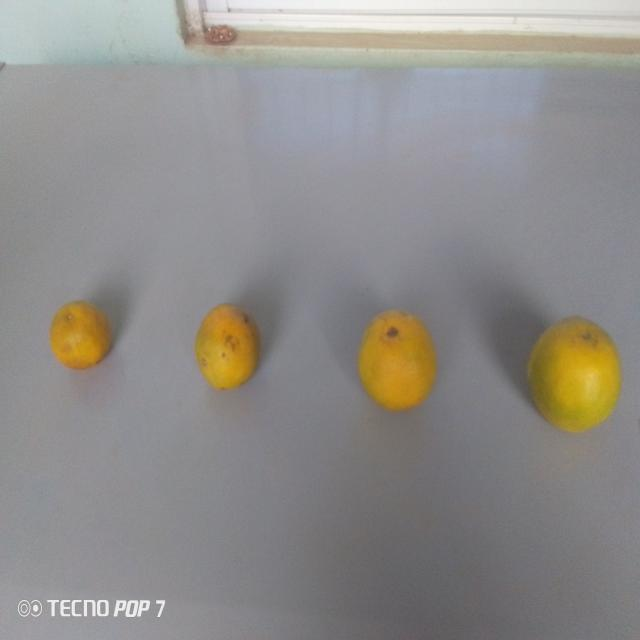Ripe orange: (518, 303, 630, 437), (354, 303, 444, 417), (189, 297, 264, 395), (46, 296, 121, 379)
